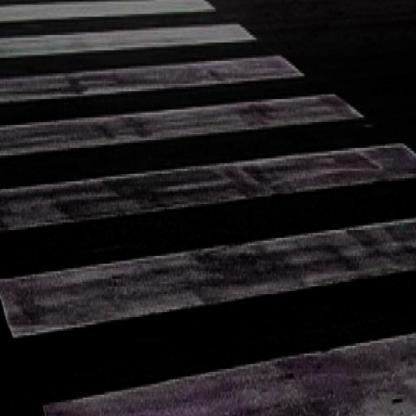crosswalk: (1, 139, 415, 353)
